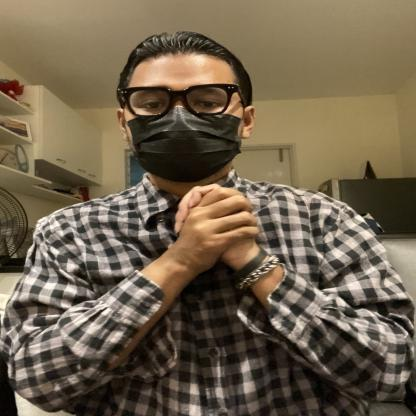Grieve: (70, 182, 354, 292)
